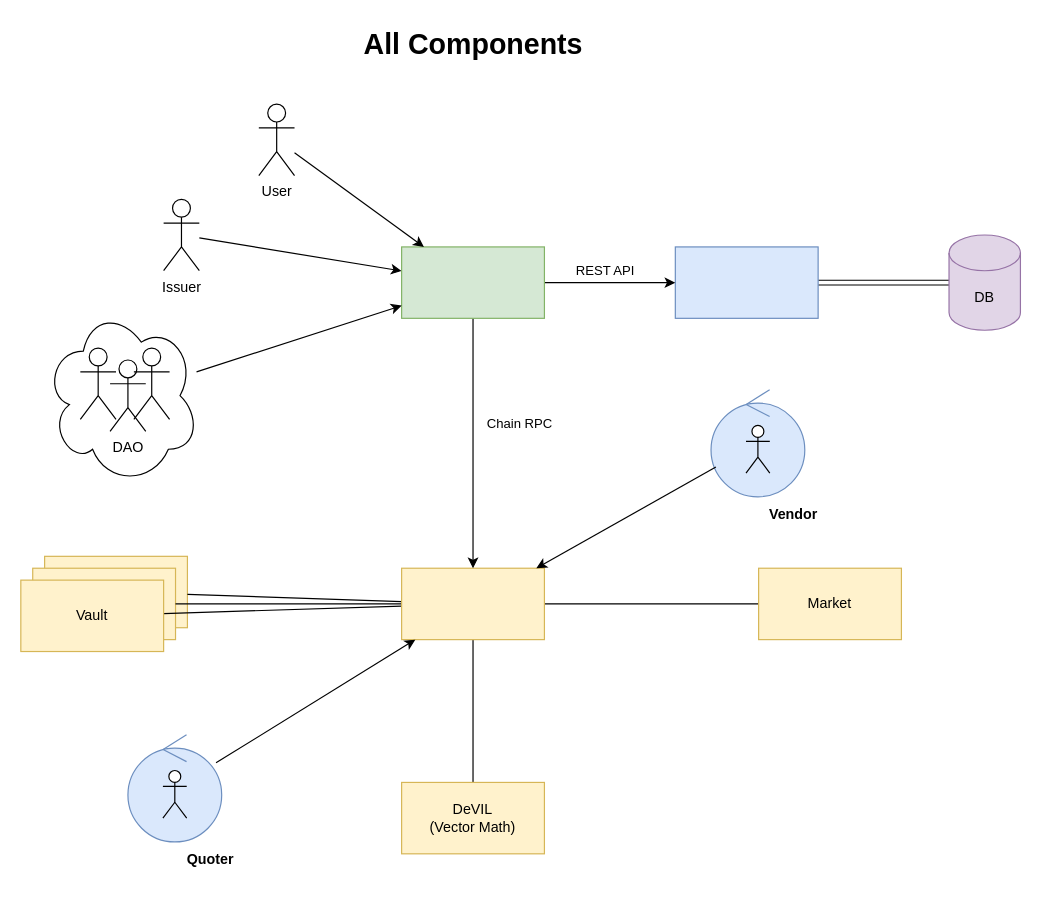
The diagram is 1041 pixels wide and 897 high, and some of its shapes have lost their labels. The centre of each missing label's shape, as x and y in pixels:
Backend: the point at 746,282
Daxos (Orchestrator): the point at 472,603
Frontend: the point at 472,282
